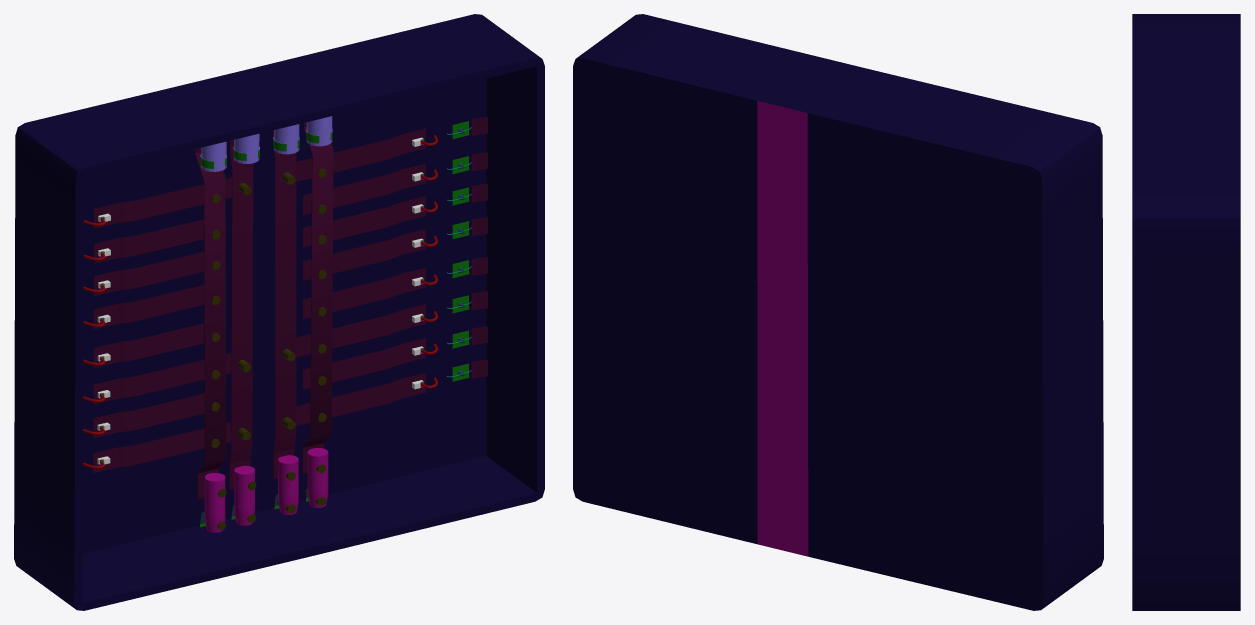
The model's file is Panel_test.fbx.
The picture shows the model from 3 angles, left to right: view 1: azimuth 30°, elevation 25°; view 2: azimuth 150°, elevation 25°; view 3: azimuth 270°, elevation 25°; orthographic projection. The views are drawn at different scales.
Parts seen in each view (by area): view 1: Attached; view 2: Attached; view 3: Attached.
Boxes of the visible parts, x1=… form: Attached: x1=14, y1=14, x2=544, y2=610; Attached: x1=573, y1=14, x2=1103, y2=610; Attached: x1=1132, y1=14, x2=1240, y2=610.
Bounding box in the file's own units: 44.96 × 40.57 × 10.
